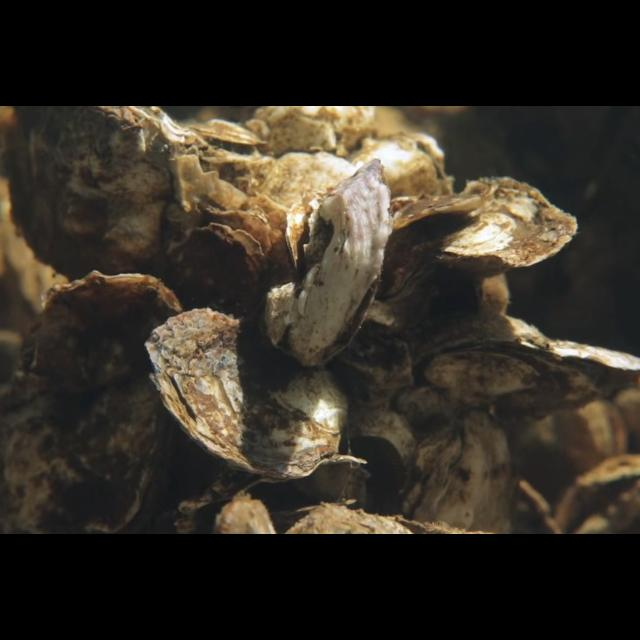Oyster-Closed: (0, 270, 184, 534), (0, 106, 220, 288), (142, 306, 354, 482), (263, 159, 392, 369), (382, 177, 578, 303), (392, 409, 520, 535), (167, 222, 269, 324)
Oyster-Open: (410, 313, 640, 423), (229, 457, 367, 535), (546, 453, 640, 535), (186, 115, 272, 168)
